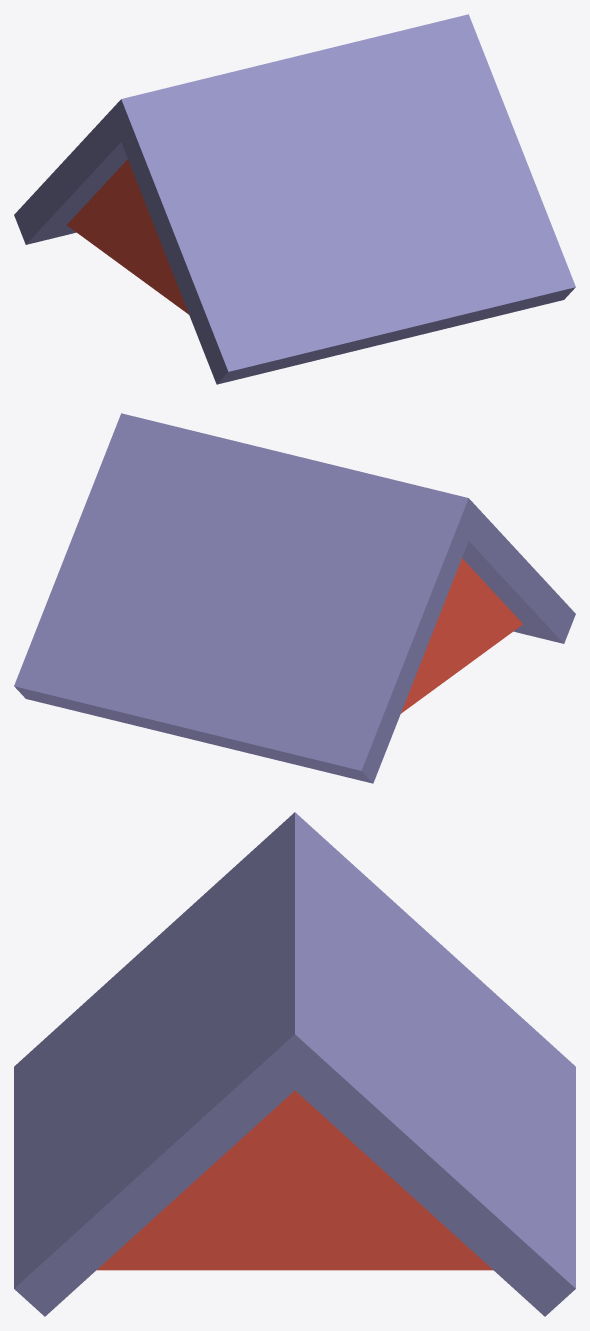
File: building_roof2.obj
3 renders of one model, top to bottom at view 1: azimuth 30°, elevation 25°; view 2: azimuth 150°, elevation 25°; view 3: azimuth 270°, elevation 25°, orthographic. The views are drawn at different scales.
Visible parts, largest first — view 1: mergedBlocks; view 2: mergedBlocks; view 3: mergedBlocks.
Part boxes in pixels (<box>): mergedBlocks: <box>14,14,575,384</box>; mergedBlocks: <box>14,413,575,783</box>; mergedBlocks: <box>14,812,575,1316</box>.
Size of the model in its own units: 1.2 by 0.7121 by 1.28.
